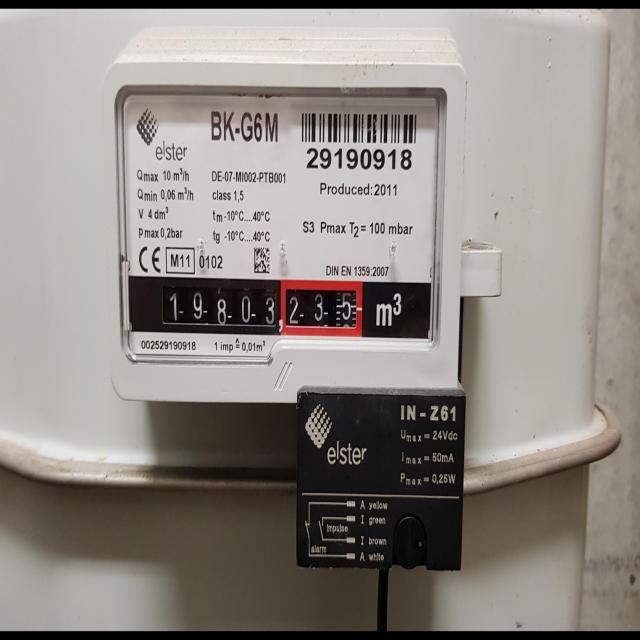gaz_meter: (116, 82, 441, 354)
indication: (163, 285, 360, 331)
